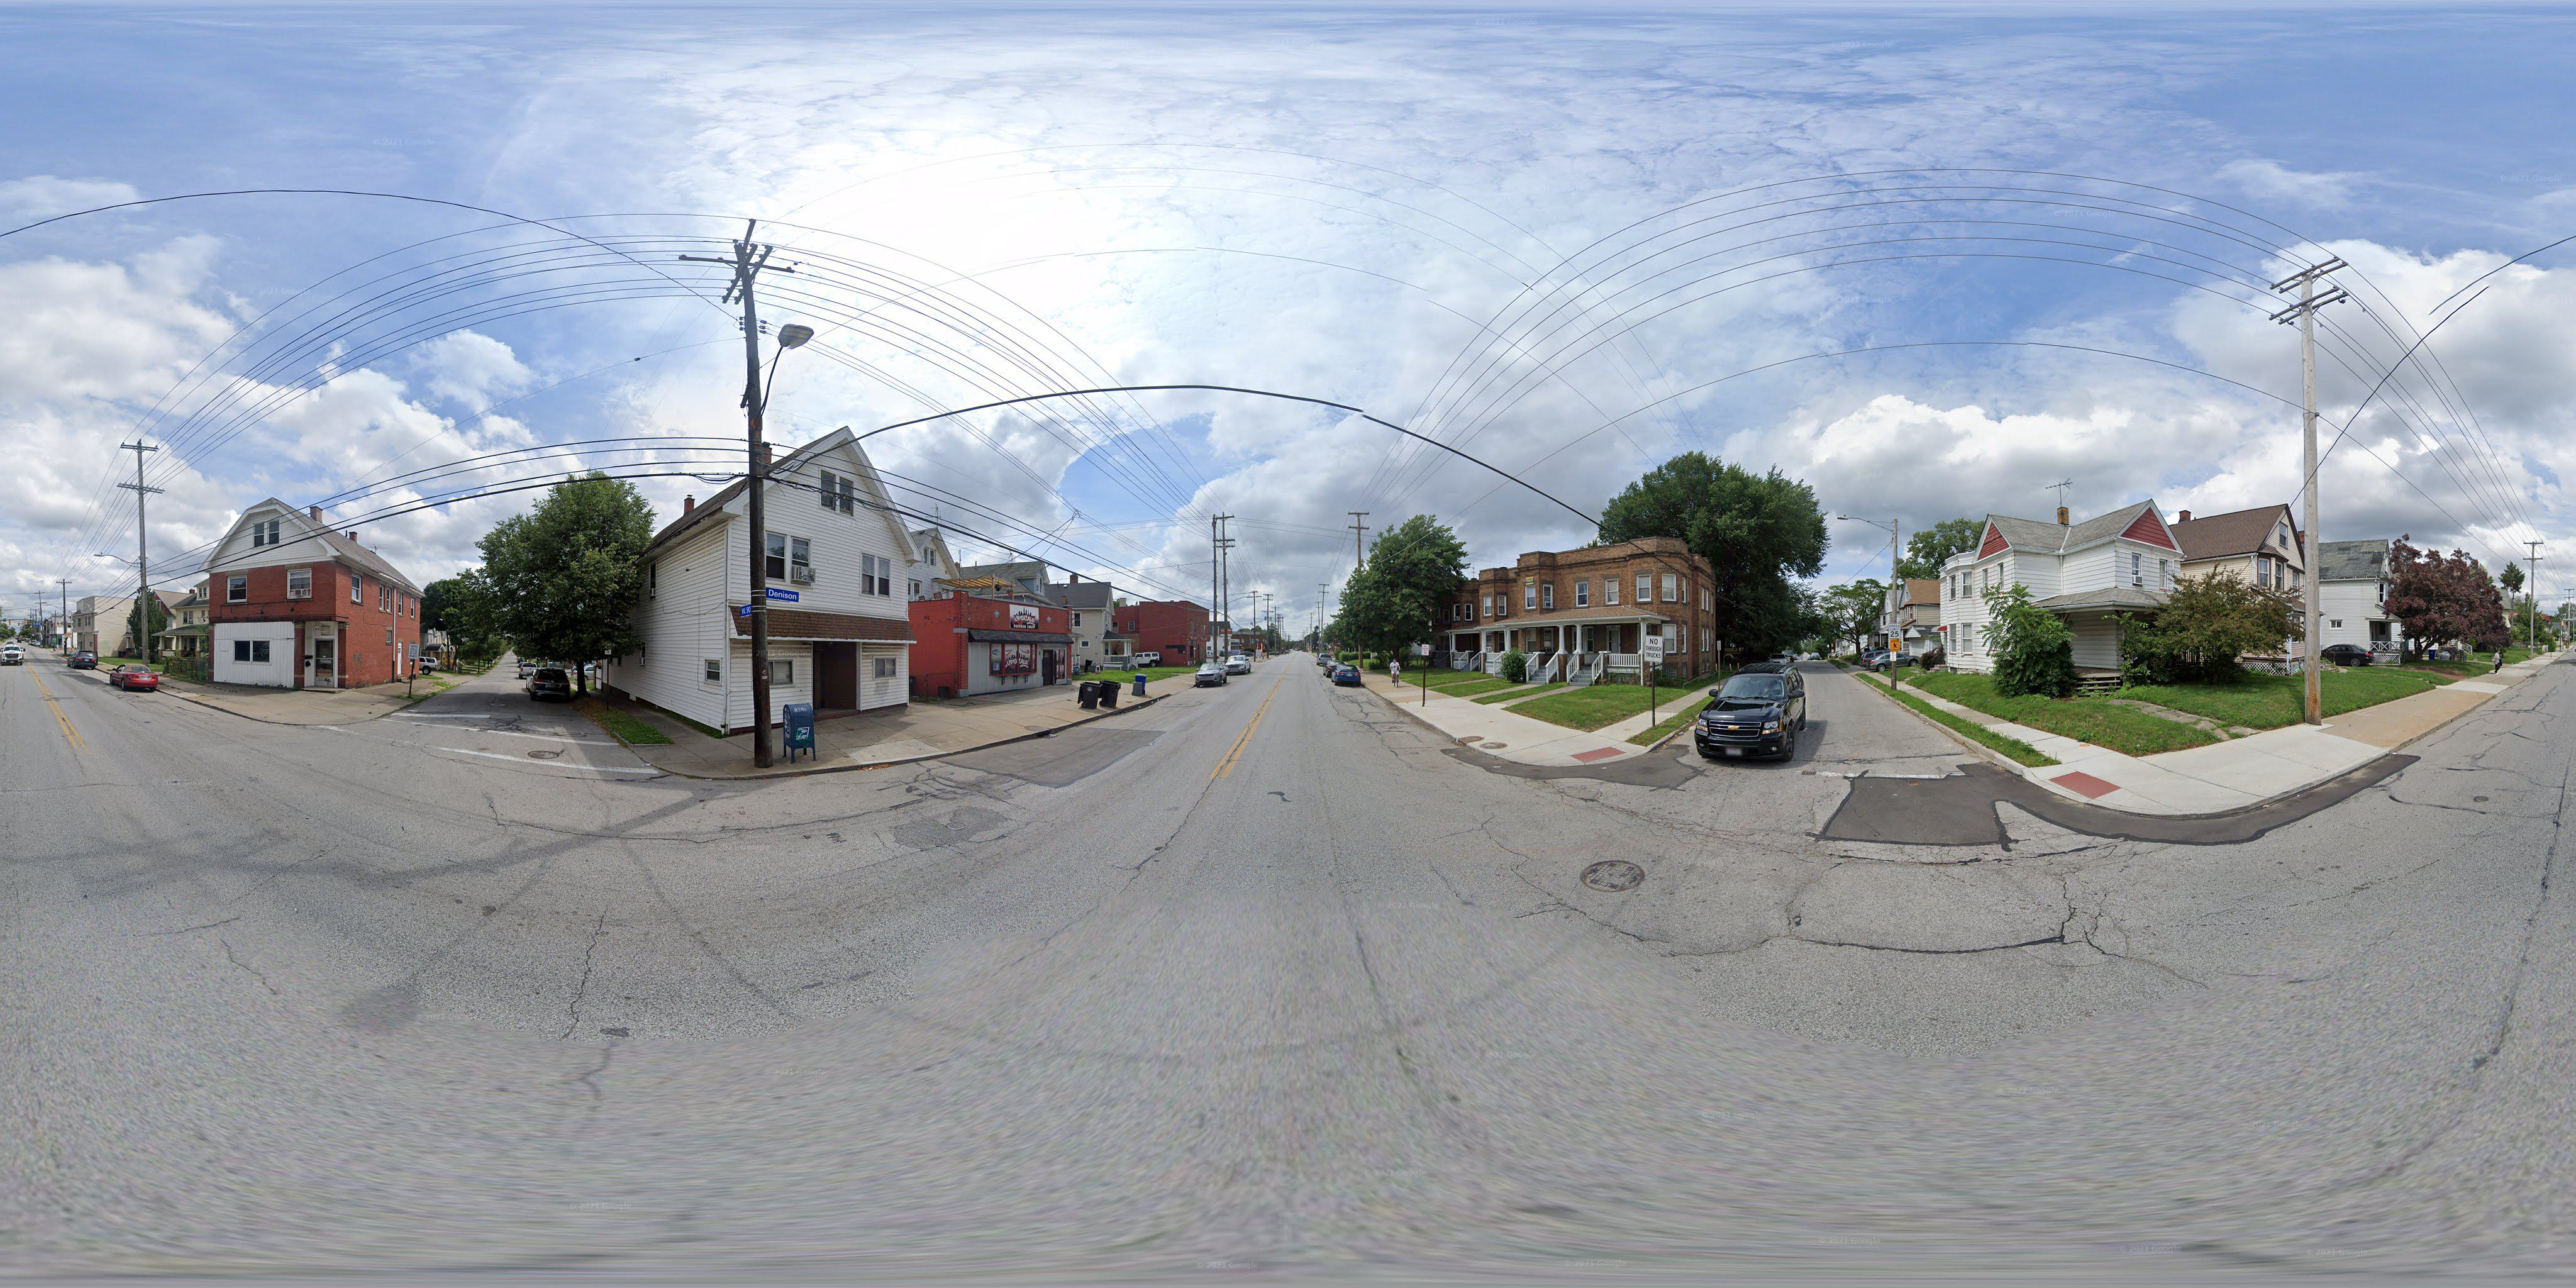Curb Ramp: (2035, 757, 2123, 815), (1548, 739, 1643, 782), (619, 736, 674, 780), (307, 705, 371, 733)
